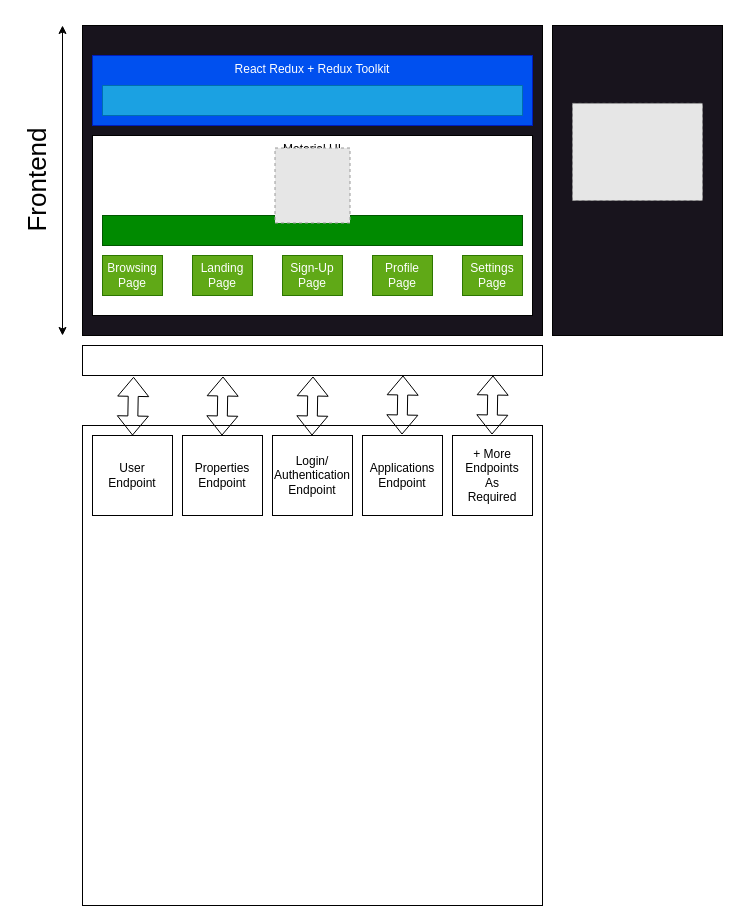
The diagram is 740 pixels wide and 923 high, and some of its shapes have lost their labels. Grey dashed boxes stand in for pictures. The shapes that lost their labels are listed below. From the top down, each one's box as (x1, y1, x2, y2) in pixels, then its label:
(102, 84, 522, 116): App State
(82, 24, 542, 336): React App
(552, 24, 722, 336): AWS Amplify
(102, 214, 522, 246): React Router
(82, 344, 542, 376): HTTP/S
